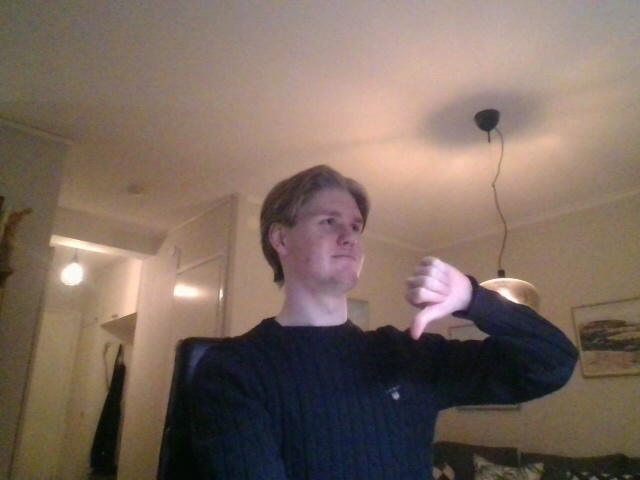ThumbsDown: (403, 255, 470, 343)
